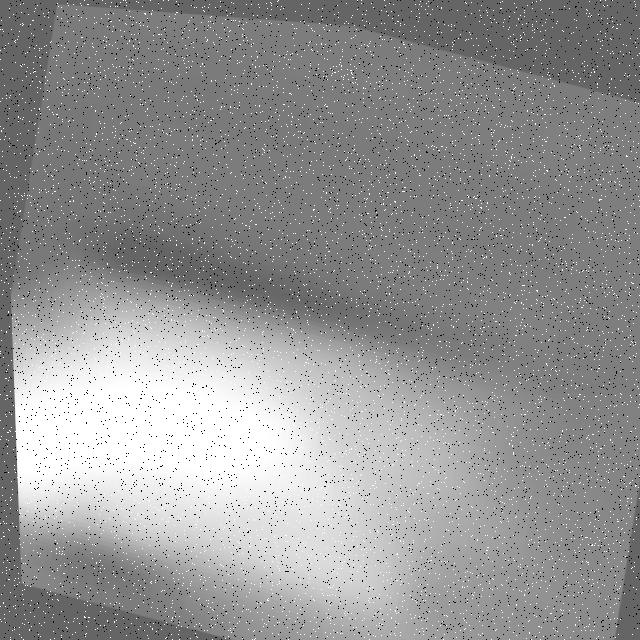person: (8, 251, 577, 640)
